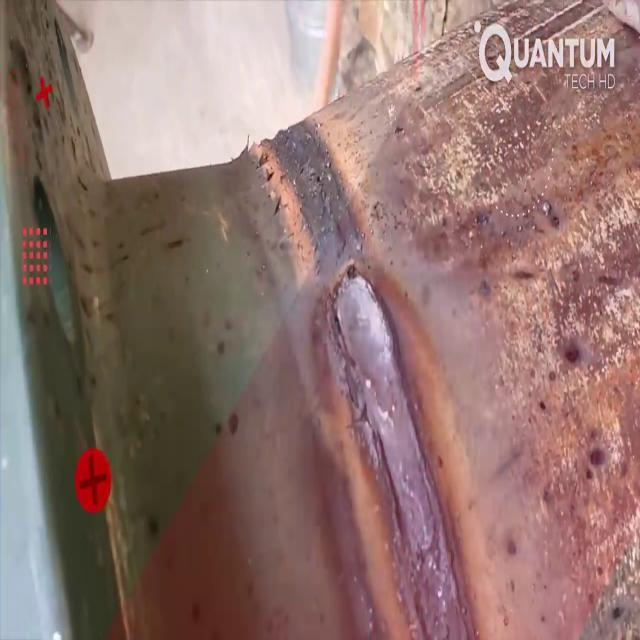Good Weld: (334, 274, 452, 553)
